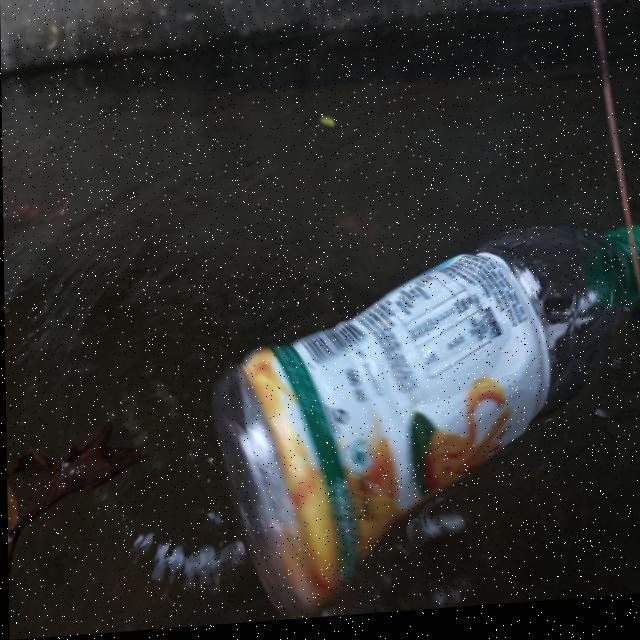waterbottle: (215, 211, 640, 579)
